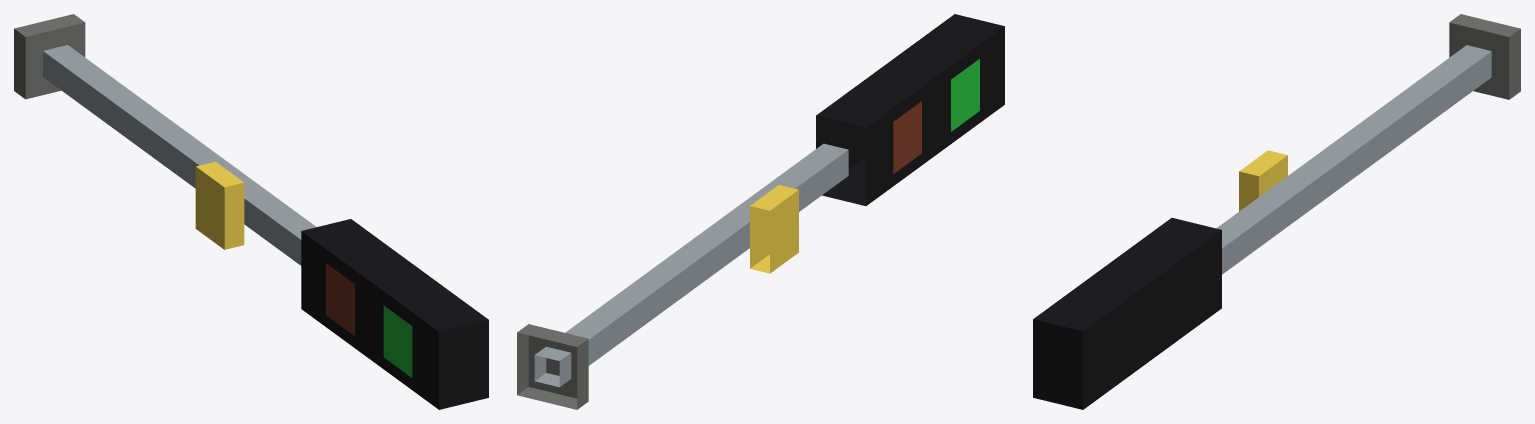
File: green.glb
3 views of the same model, side by side, from view 1: azimuth 30°, elevation 25°; view 2: azimuth 150°, elevation 25°; view 3: azimuth 330°, elevation 25° (orthographic).
Visible parts, largest first — view 1: signal_electric_entry_green; view 2: signal_electric_entry_green; view 3: signal_electric_entry_green.
Boxes of the visible parts, x1,y1,x2,y2 form: signal_electric_entry_green: (14,14,488,409); signal_electric_entry_green: (517,14,1004,409); signal_electric_entry_green: (1033,14,1520,409).
Size of the model in its own units: 1.3 by 1.5 by 14.8.
